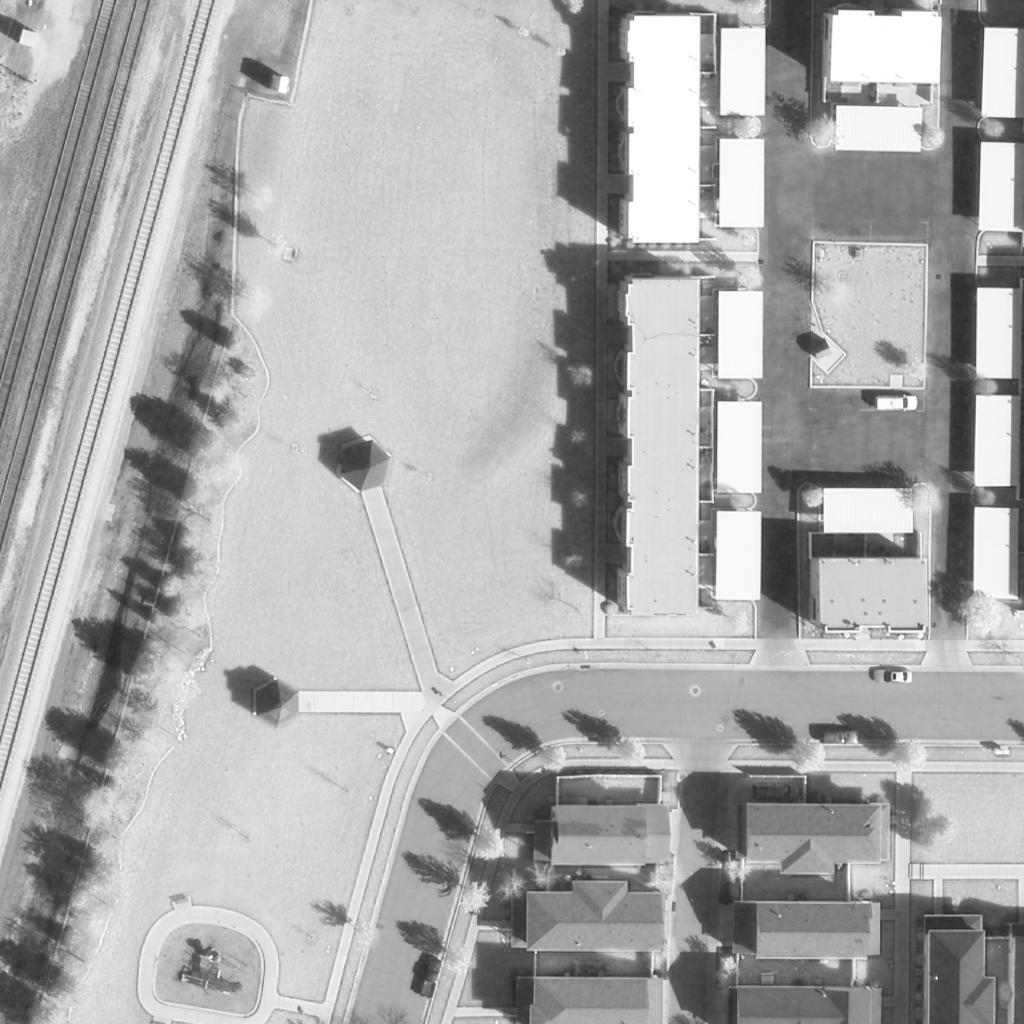vehicle: (749, 784, 809, 802), (419, 957, 443, 1001), (817, 731, 861, 745), (872, 670, 916, 682), (876, 396, 918, 408)
